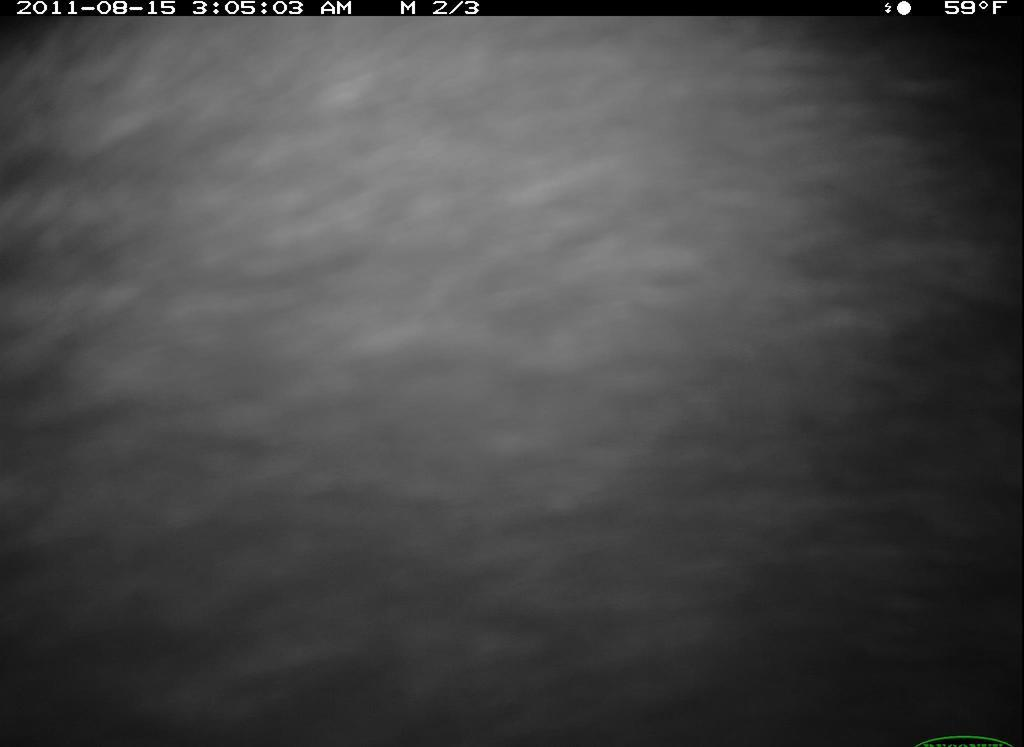raccoon: (1, 18, 1017, 745)
